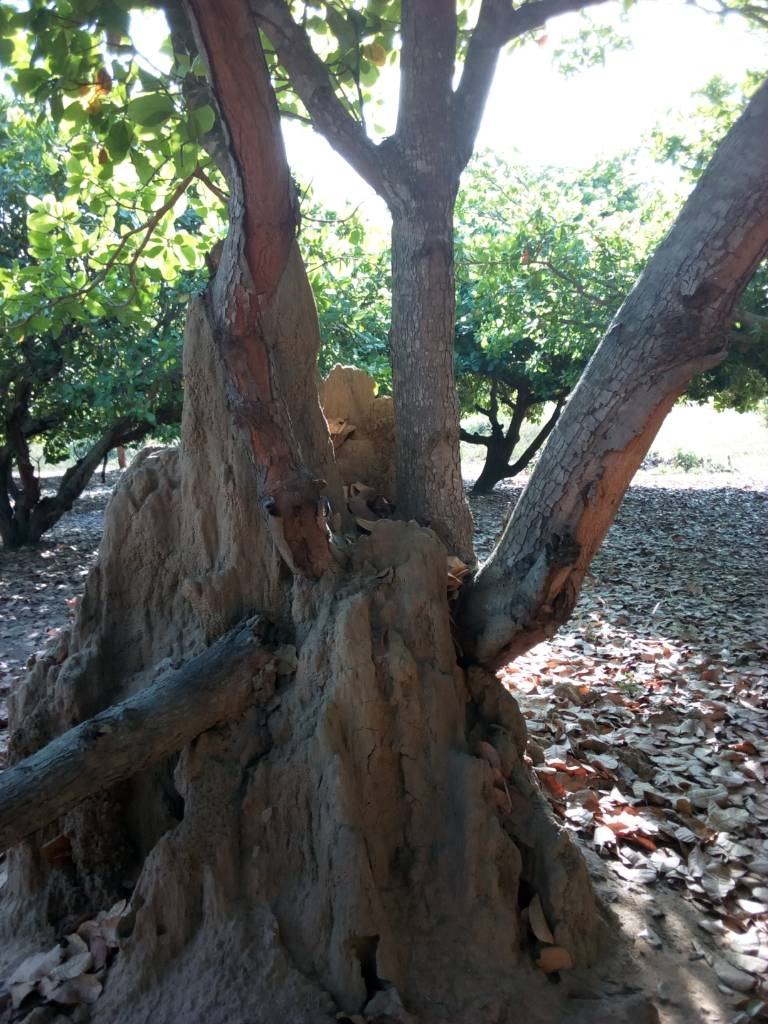Virose: (1, 308, 768, 1024)
